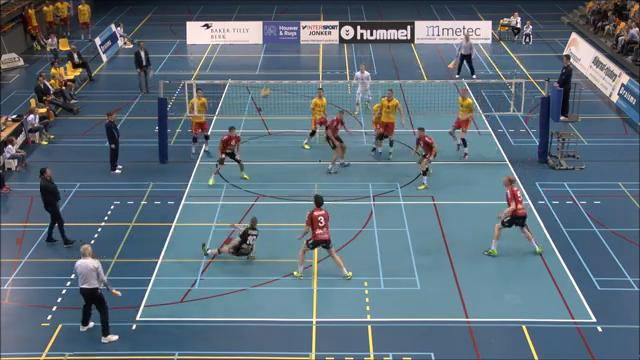difesa: (199, 213, 260, 262)
